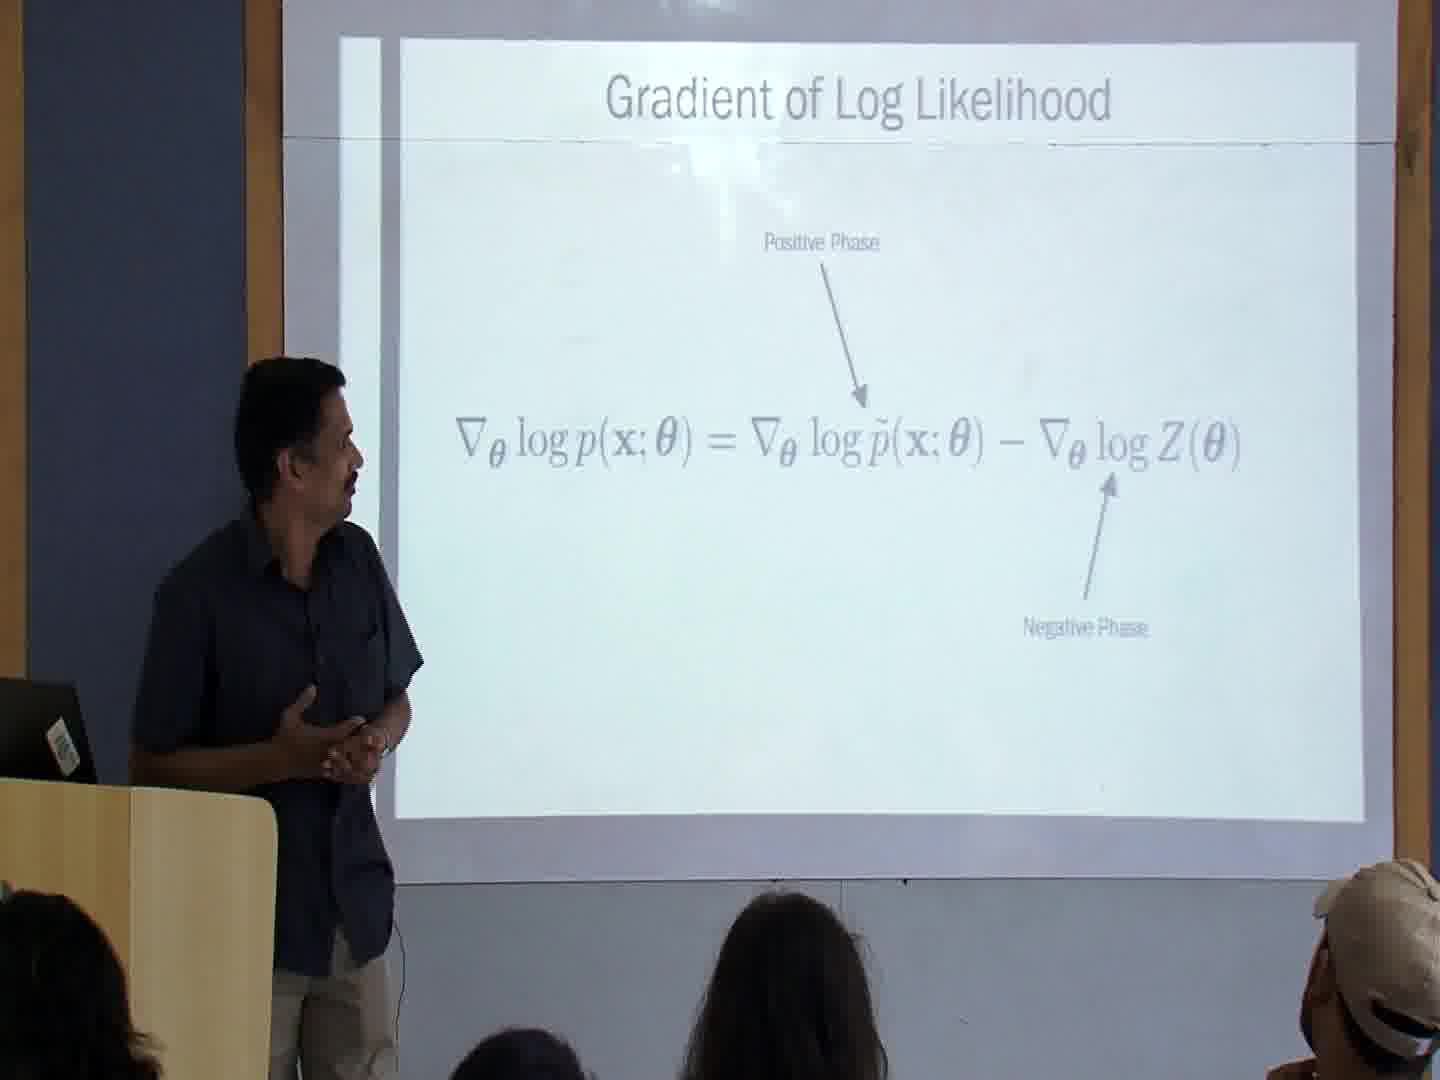slide: (341, 35, 1367, 820)
